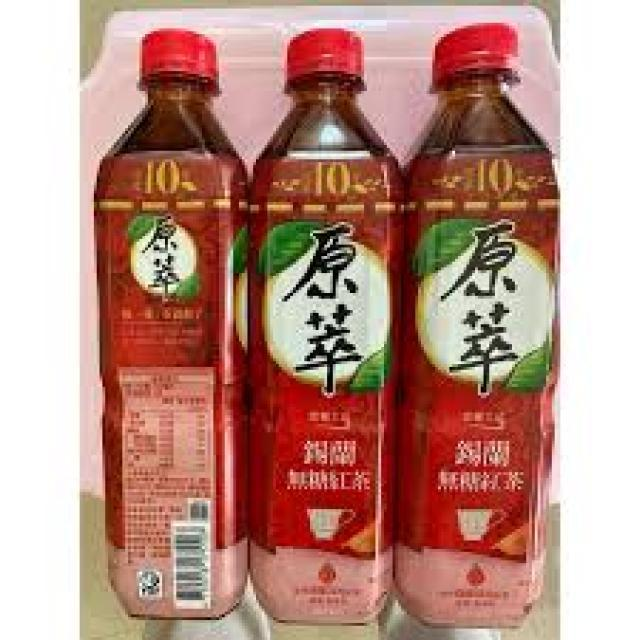YuanTsui_BlackTea: (95, 28, 261, 621), (401, 25, 561, 622), (245, 27, 400, 624)
